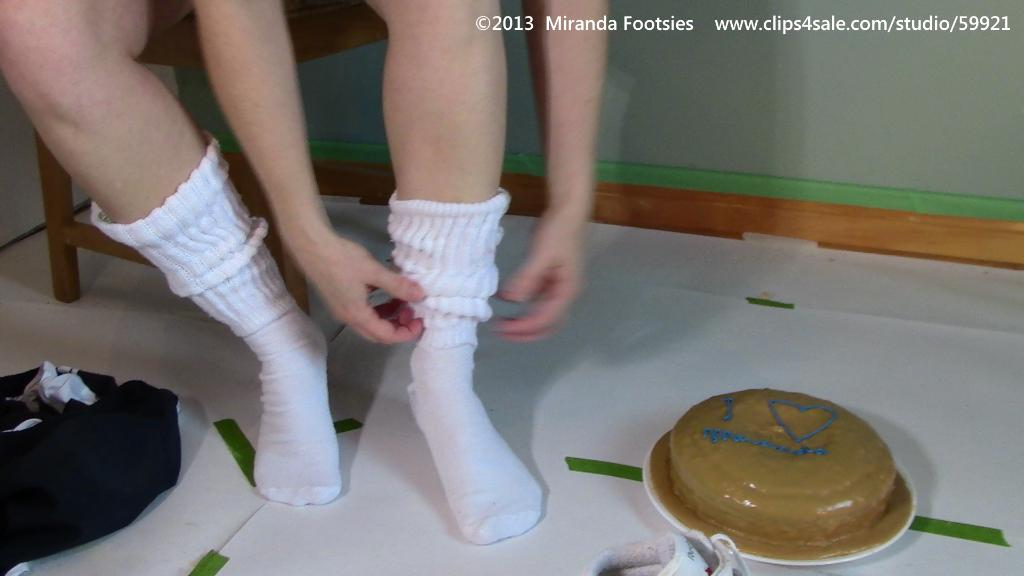cake: (658, 389, 912, 553)
